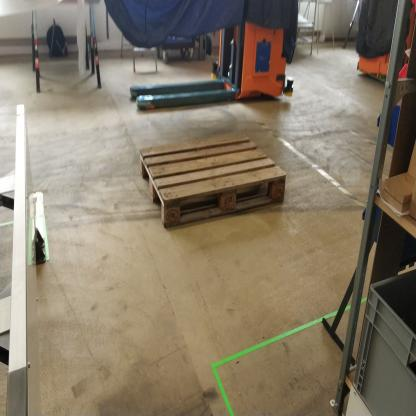BoxFace: (136, 129, 288, 238)
